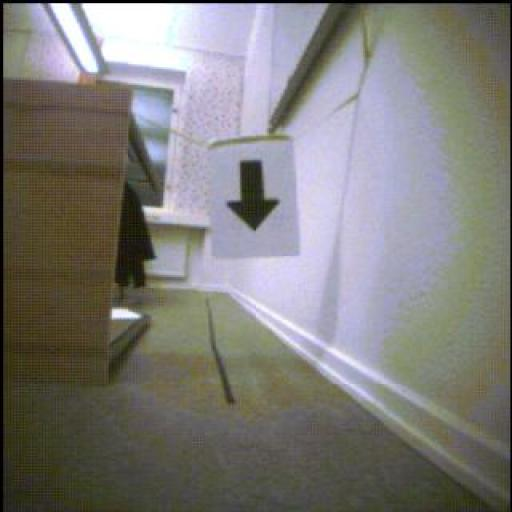Arrow: (229, 161, 280, 231)
